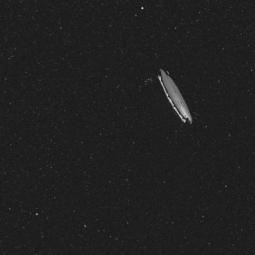lisa_pathfinder: (131, 53, 197, 147)
